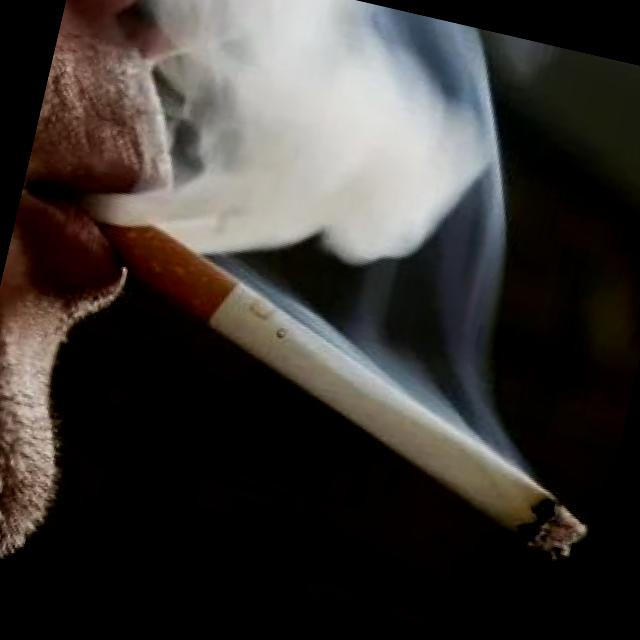cigarette: (28, 198, 640, 581)
